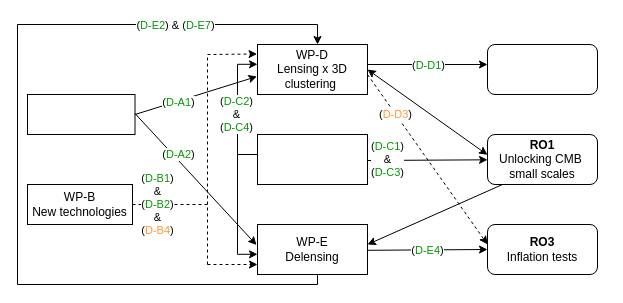
Some shapes in this 623 by 303 pixel diagram are drawn without their labels. Here are the shapes that lost their labels. From the top down, the box of each, then its label:
(486, 44, 598, 94): RO2 Dark Energy tests
(26, 94, 135, 134): WP-A Galaxy selections
(256, 134, 368, 184): WP-C Lensing-foreground models
